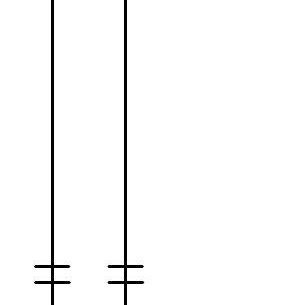115_buffer: (34, 265, 71, 284), (107, 265, 144, 284)
